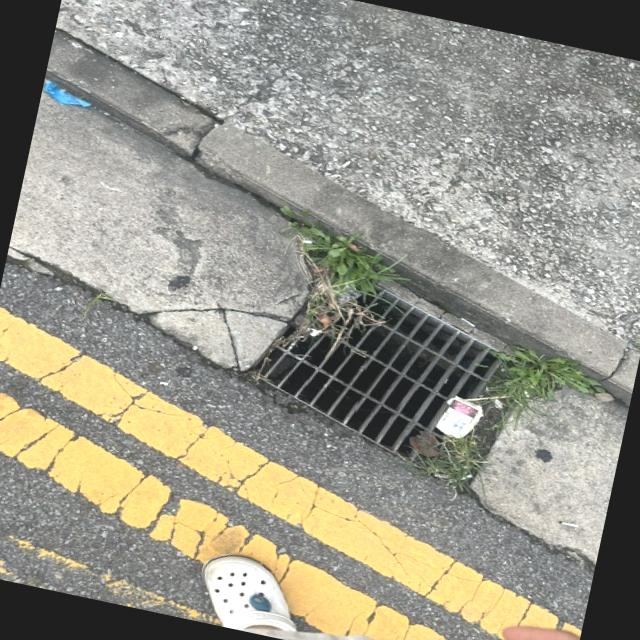drain_area: (261, 285, 499, 458)
drain_full: (247, 262, 539, 490)
